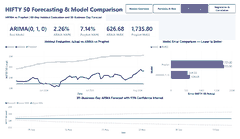

What the dashboard file says about the page in this screenshot:
{"tool":"powerbi","page":{"name":"Forecasting","canvas":[1280,720],"ordinal":2},"visuals":[{"type":"textbox","box":[0,0,673.5,56.9],"z":0},{"type":"textbox","box":[0,56.5,562.1,34.4],"z":1000},{"type":"cardVisual","fields":{"Data":["Model_Metrics.ARIMA MAPE"]},"box":[243,90.8,160.8,105.5],"z":2000},{"type":"cardVisual","fields":{"Data":["Model_Metrics.Best Forecast Model"]},"box":[0,90.8,265.1,105.5],"z":3000},{"type":"cardVisual","fields":{"Data":["Model_Metrics.Prophet MAPE"]},"box":[391.5,90.8,170.6,105.5],"z":4000},{"type":"cardVisual","fields":{"Data":["Model_Metrics.ARIMA RMSE"]},"box":[536.3,90.8,170.6,105.5],"z":5000},{"type":"cardVisual","fields":{"Data":["Model_Metrics.Prophet RMSE"]},"box":[673.7,90.8,181.6,105.5],"z":6000},{"type":"lineChart","title":"Holdout Evaluation: Actual vs ARIMA vs Prophet","fields":{"Category":["Date_Table.Date"],"Y":["Max(Forecast_Evaluation.Actual NIFTY 50)","Max(Forecast_Evaluation.ARIMA Forecast)","Max(Forecast_Evaluation.Prophet Forecast)"]},"box":[0,196.4,802.6,310.5],"z":7000},{"type":"clusteredBarChart","title":"Model Error Comparison — Lower Is Better","fields":{"Category":["Model_Metrics.Model"],"Y":["Max(Model_Metrics.MAE)","Max(Model_Metrics.RMSE)"]},"box":[802.6,196.4,477.4,310.5],"z":8000},{"type":"lineChart","title":"30-Business-Day ARIMA Forecast with 95% Confidence Interval","fields":{"Category":["Future_Forecast.Date"],"Y":["Max(Future_Forecast.Forecast)","Max(Future_Forecast.Lower 95%)","Max(Future_Forecast.Upper 95%)"]},"box":[0,506.8,1280,213.5],"z":9000}]}

Visuals, with their boxes on the page's 1280x720 design canvas (x1, y1, x2, y2). These are canvas units, not pixel positions in the 240x139 screenshot, which may show the page scaled, cropped or inside an application window:
textbox: pyautogui.locateOnScreen(0, 0, 674, 57)
textbox: pyautogui.locateOnScreen(0, 56, 562, 91)
cardVisual - Model_Metrics.ARIMA MAPE: pyautogui.locateOnScreen(243, 91, 404, 196)
cardVisual - Model_Metrics.Best Forecast Model: pyautogui.locateOnScreen(0, 91, 265, 196)
cardVisual - Model_Metrics.Prophet MAPE: pyautogui.locateOnScreen(392, 91, 562, 196)
cardVisual - Model_Metrics.ARIMA RMSE: pyautogui.locateOnScreen(536, 91, 707, 196)
cardVisual - Model_Metrics.Prophet RMSE: pyautogui.locateOnScreen(674, 91, 855, 196)
"Holdout Evaluation: Actual vs ARIMA vs Prophet" lineChart: pyautogui.locateOnScreen(0, 196, 803, 507)
"Model Error Comparison — Lower Is Better" clusteredBarChart: pyautogui.locateOnScreen(803, 196, 1280, 507)
"30-Business-Day ARIMA Forecast with 95% Confidence Interval" lineChart: pyautogui.locateOnScreen(0, 507, 1280, 720)
